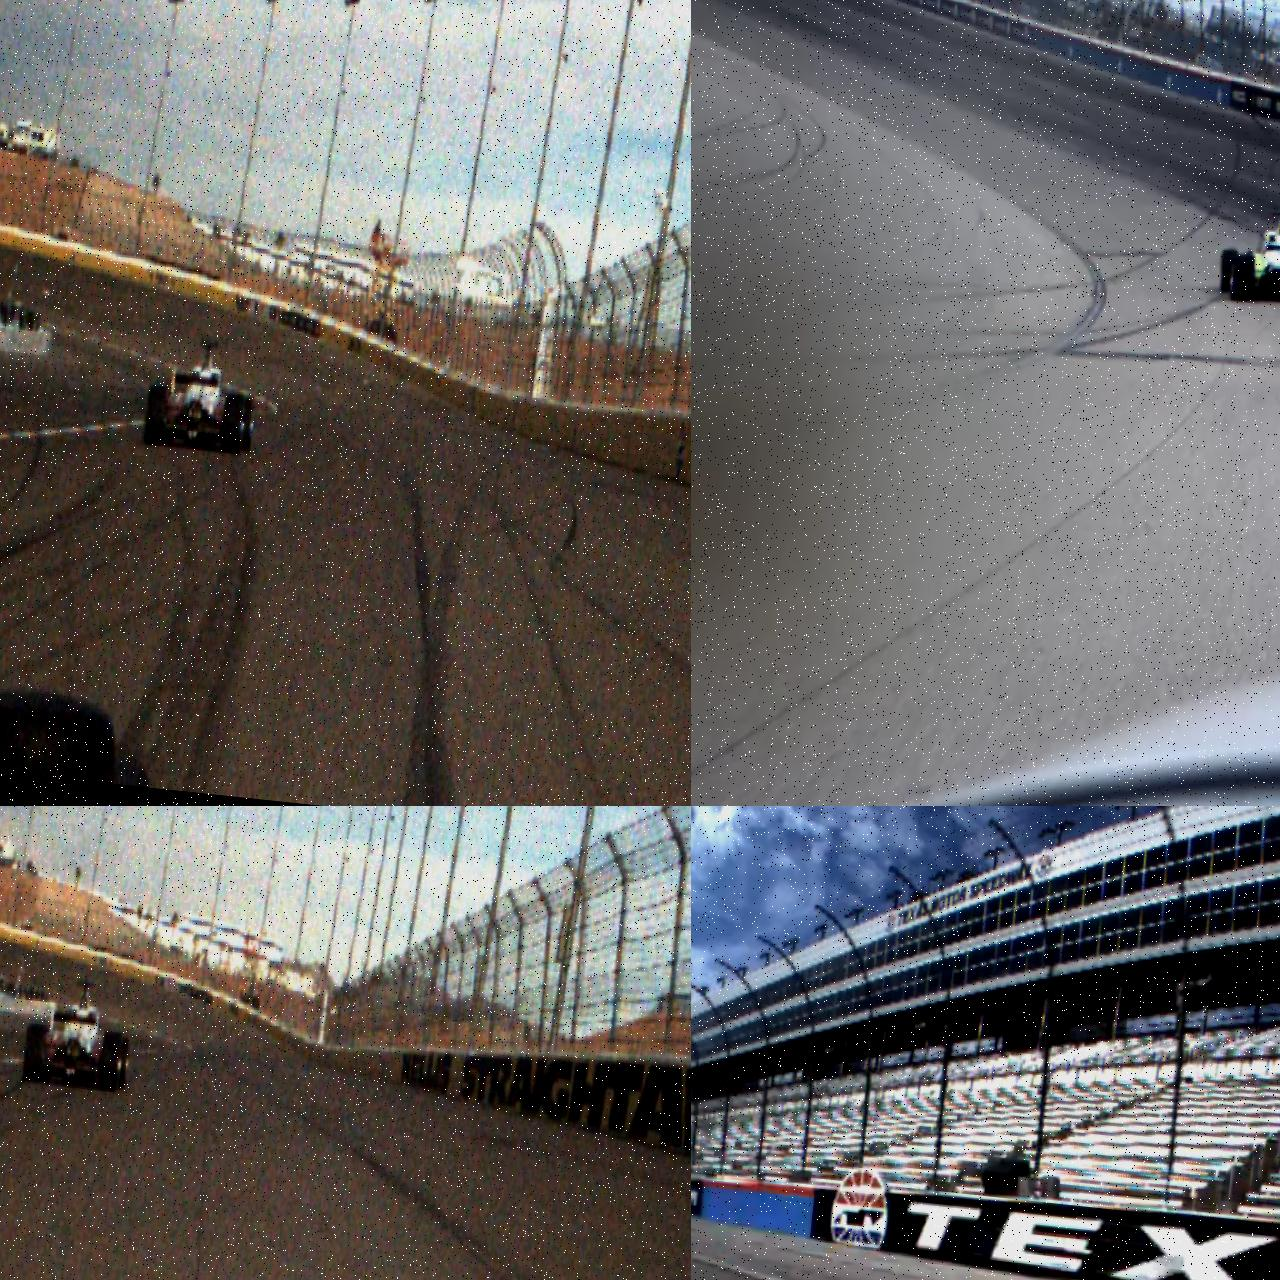AV: (142, 331, 264, 457), (21, 976, 137, 1094), (1217, 204, 1280, 313)
Wheel: (220, 392, 246, 456), (143, 384, 169, 448), (22, 1024, 49, 1083), (98, 1032, 124, 1092), (1228, 253, 1257, 302), (237, 396, 256, 452), (1218, 248, 1239, 294), (113, 1037, 131, 1088)
